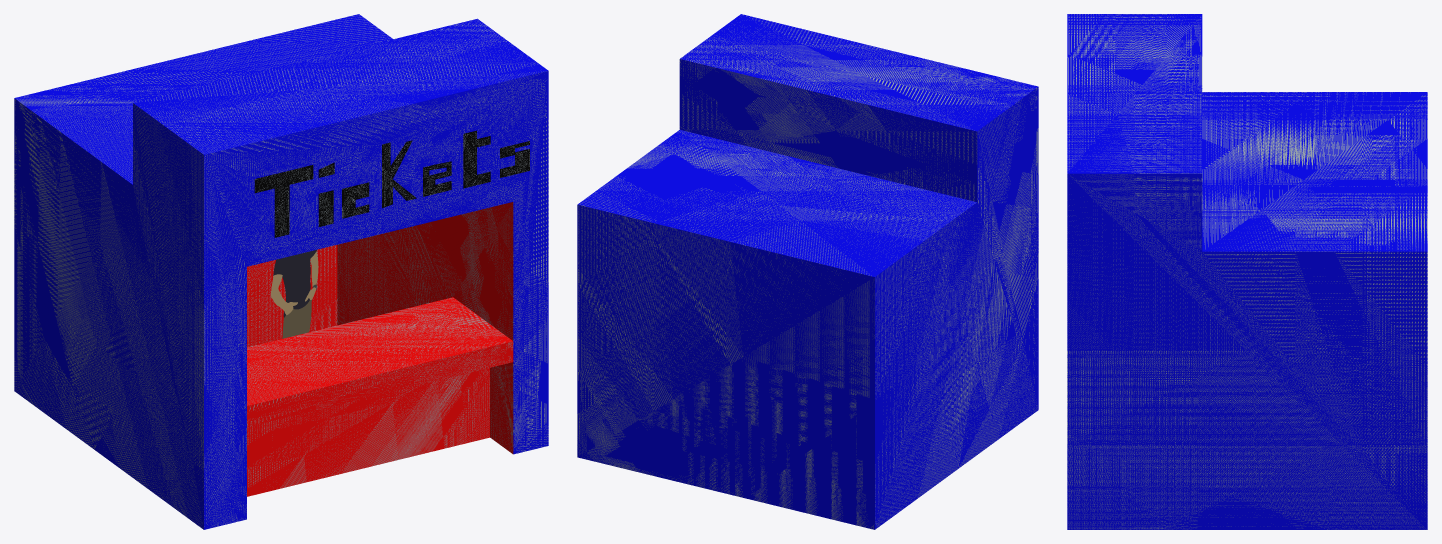
3 renders of one model, left to right at view 1: azimuth 30°, elevation 25°; view 2: azimuth 150°, elevation 25°; view 3: azimuth 270°, elevation 25°, orthographic. The views are drawn at different scales.
Visible parts, largest first — view 1: SketchUp (×9), Chris (×2); view 2: SketchUp; view 3: SketchUp.
Boxes of the visible parts, x1,y1,x2,y2 form: SketchUp (×9): [14, 14, 548, 529]; Chris (×2): [273, 250, 316, 338]; SketchUp: [577, 14, 1038, 529]; SketchUp: [1067, 14, 1427, 529].
Bounding box in the file's own units: 109 × 104 × 114.
